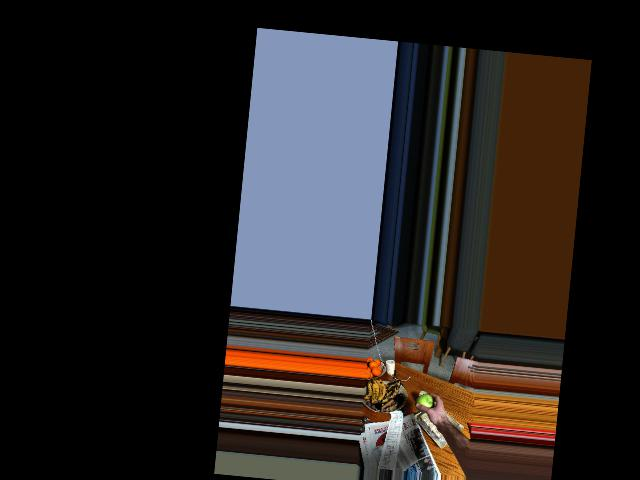apple: (414, 392, 436, 415)
